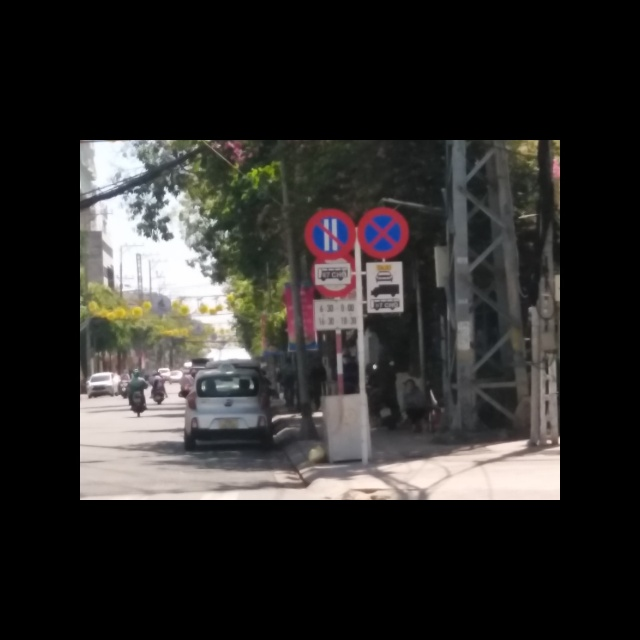Cấm dừng xe và đỗ xe: (357, 207, 409, 260)
Cấm đỗ xe ngày chẵn: (304, 207, 356, 258)
